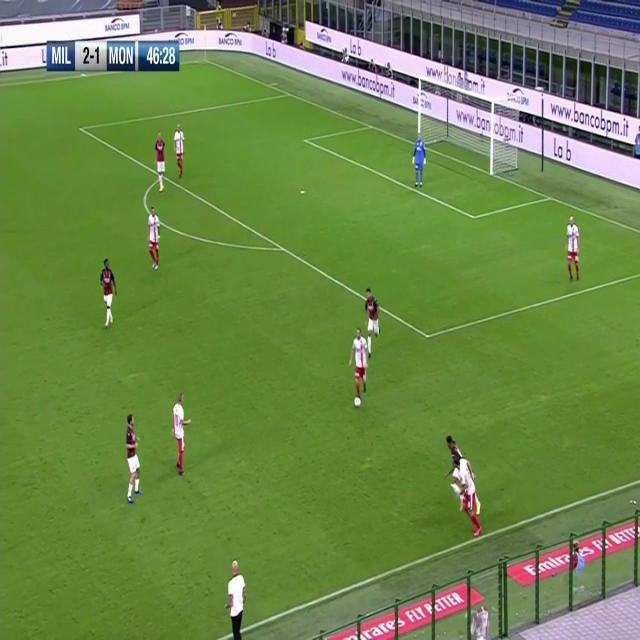ball: (354, 395, 362, 409)
player: (451, 452, 484, 540), (122, 411, 144, 505), (225, 558, 248, 640), (172, 390, 191, 476), (349, 325, 369, 402), (100, 257, 118, 328), (565, 212, 581, 282), (364, 285, 380, 354), (147, 203, 162, 273), (153, 127, 167, 194), (412, 132, 426, 188), (173, 121, 185, 179), (442, 434, 460, 469)
